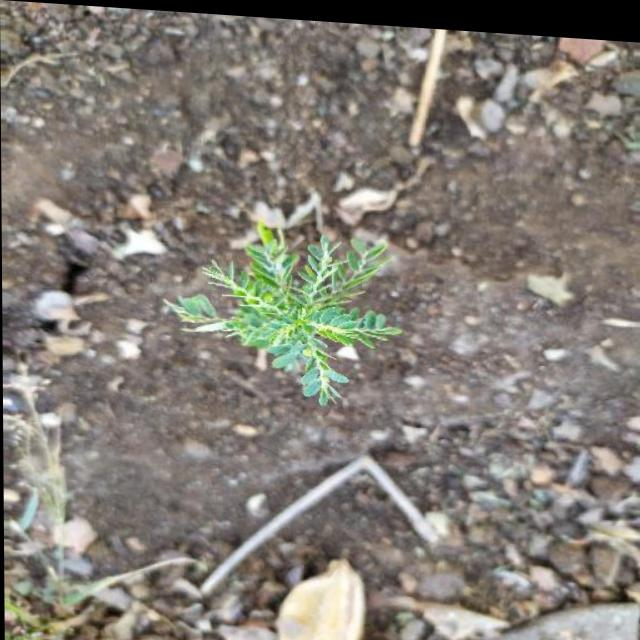weed: (171, 210, 425, 413)
